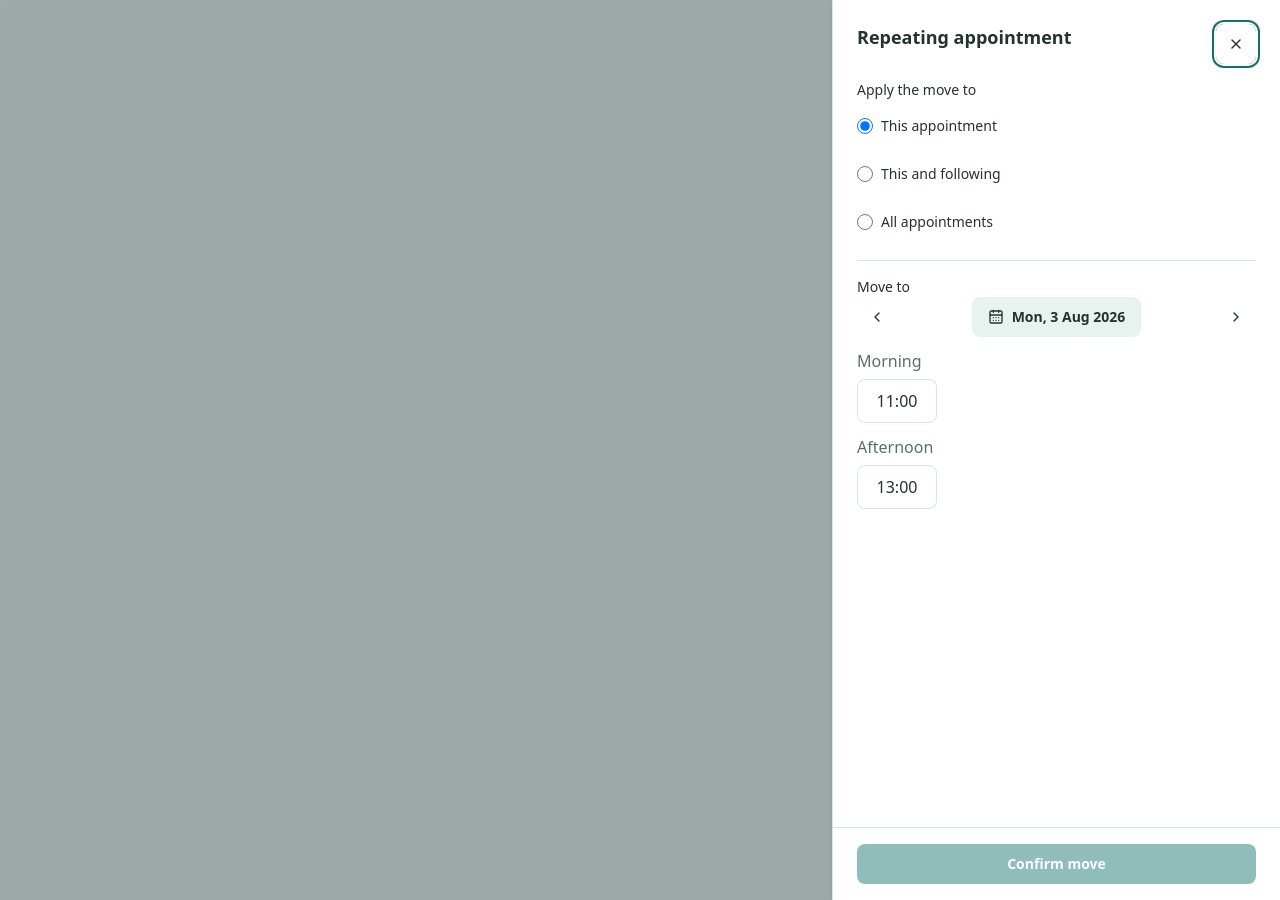
Test case: SeriesDialog › names every conflicting occurrence and keeps the dialog open
Click the radio button labelled "All appointments".
click(865, 222)  # box [857,214,873,230]
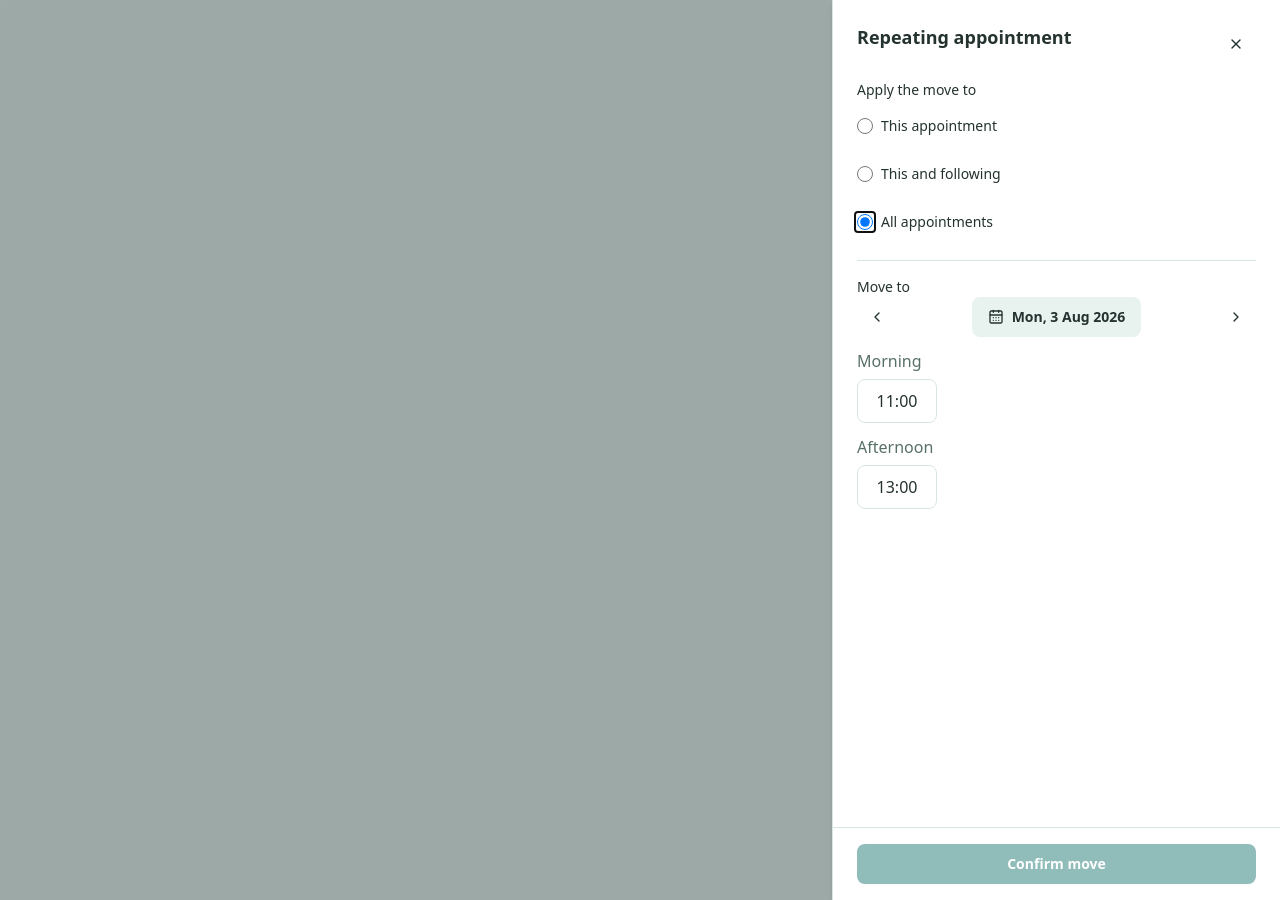
Click the button "11:00".
click(897, 401)  # box [857,379,937,423]
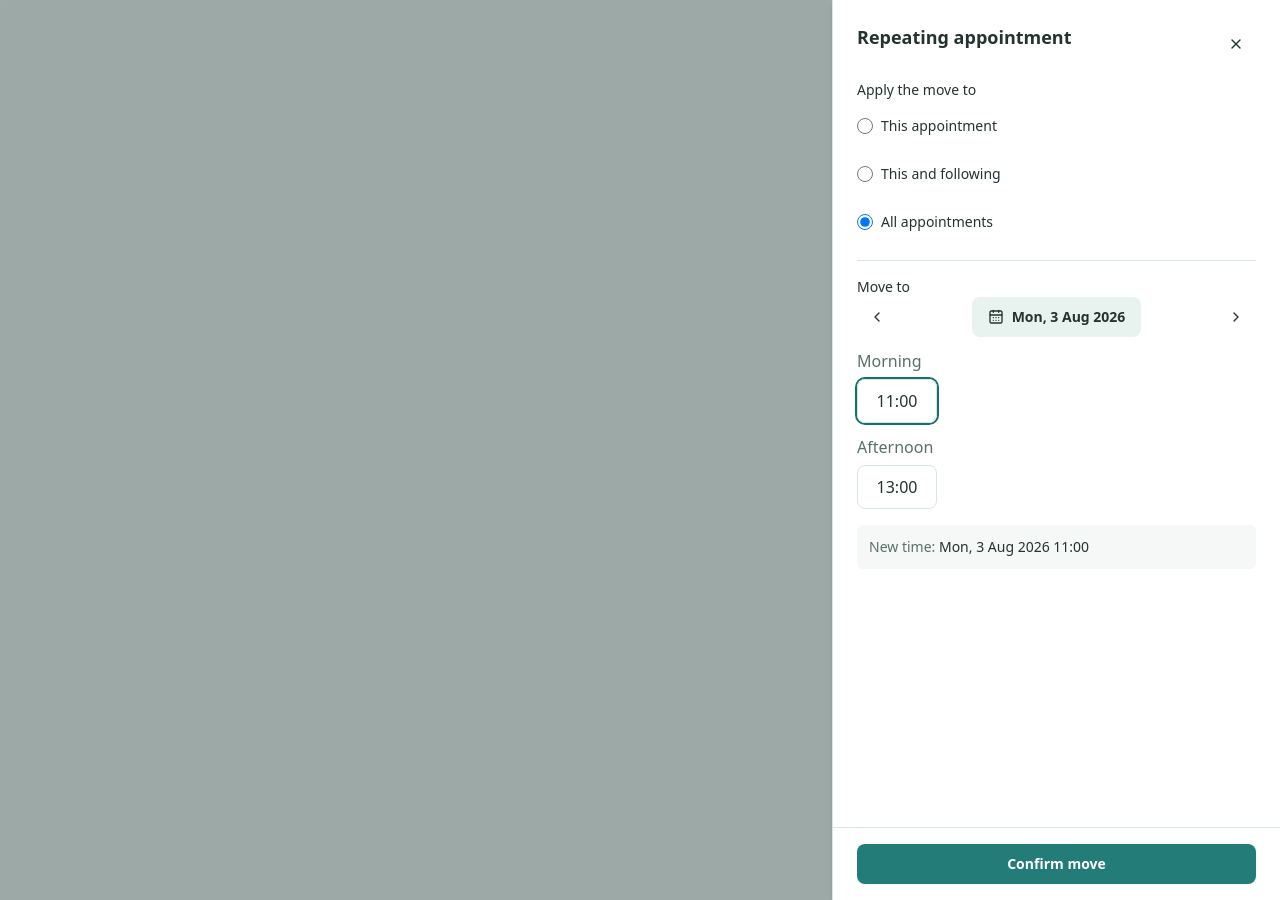
Click the button "Confirm move".
click(1056, 864)  # box [857,844,1256,884]
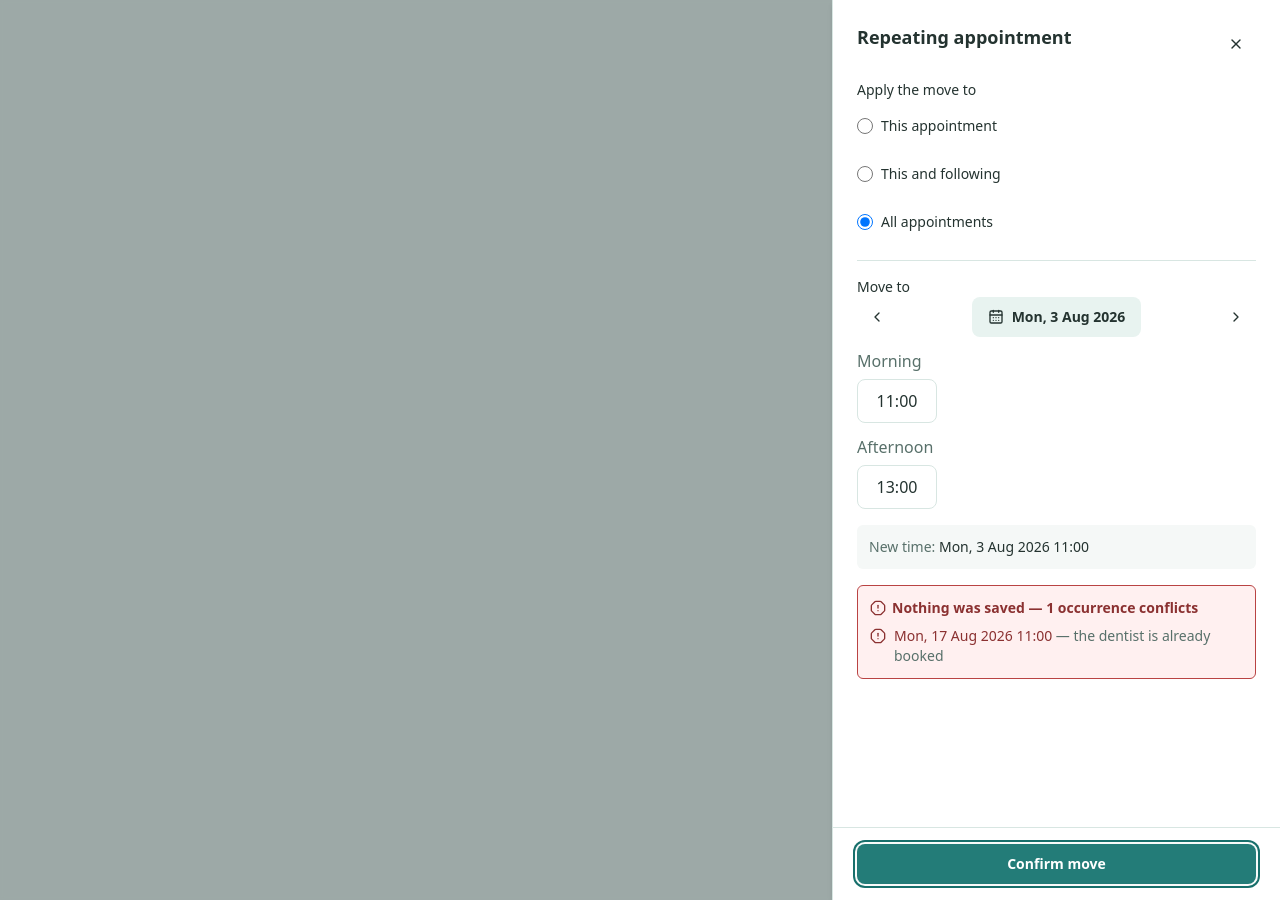
Expected: the dialog is shown, [832,0,1279,899]
Expected: the element with test id "series-conflicts" shows "1 occurrence conflicts", [857,585,1256,679]
